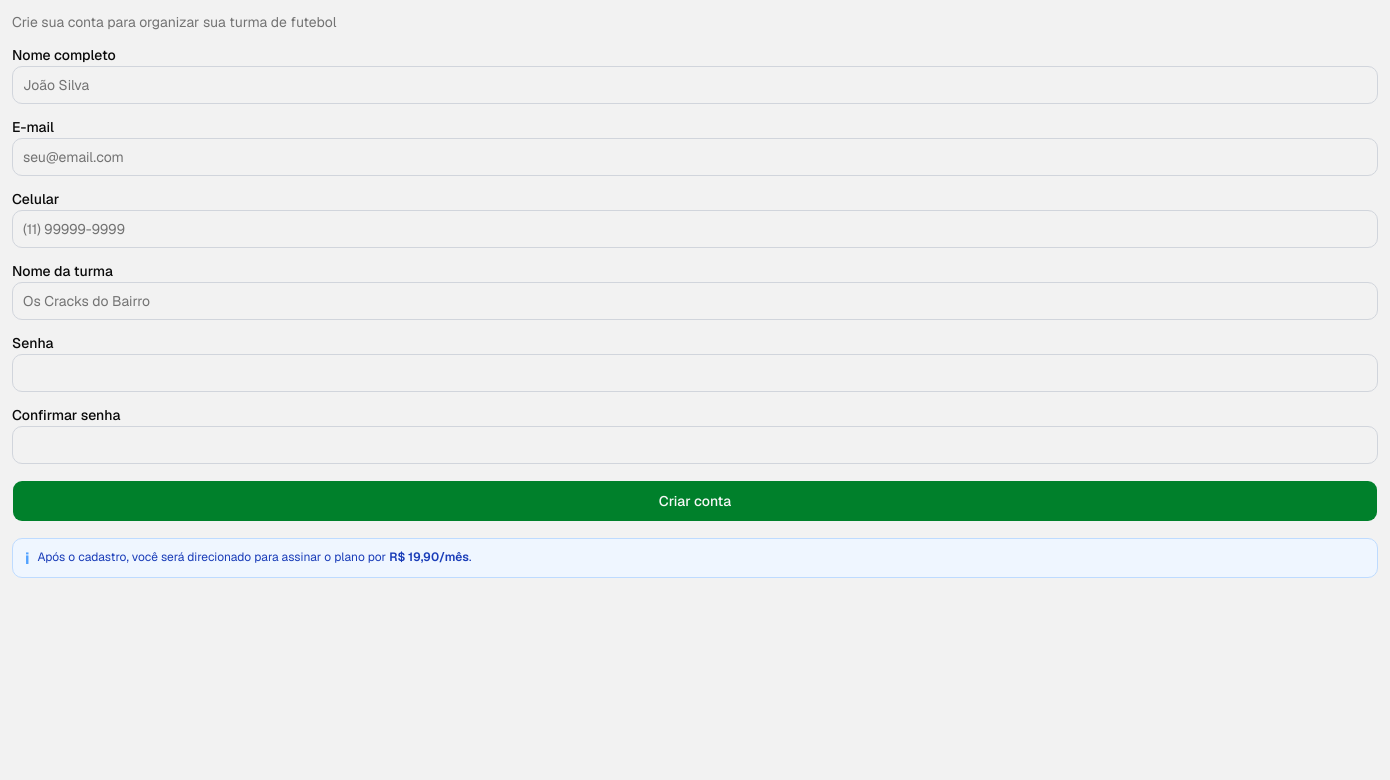
Test: CadastroForm › validation › shows error when team name is too short
Type "A" into the field labelled "Nome da turma" at x=695, y=301, box [12,282,1378,320]
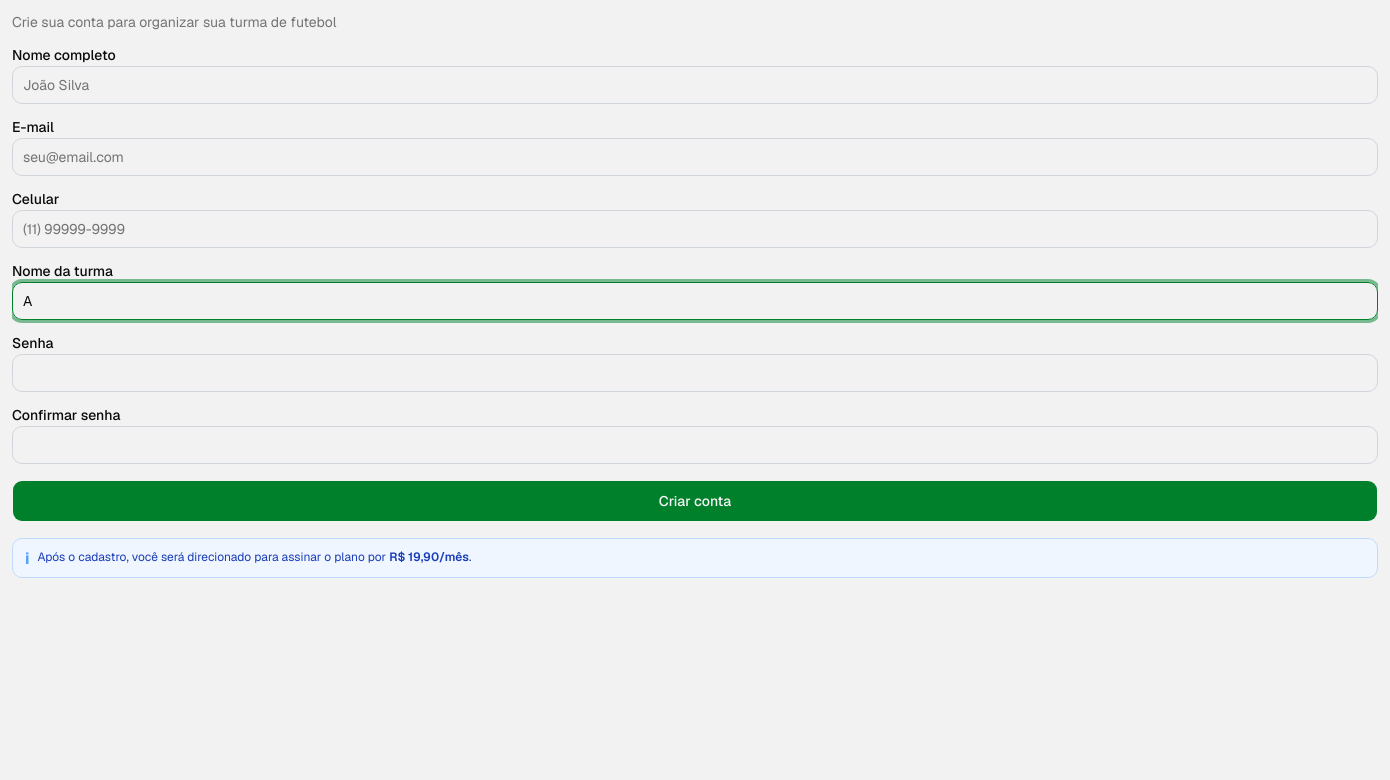
Click the button "Criar conta" at x=695, y=501, box [12,480,1378,522]
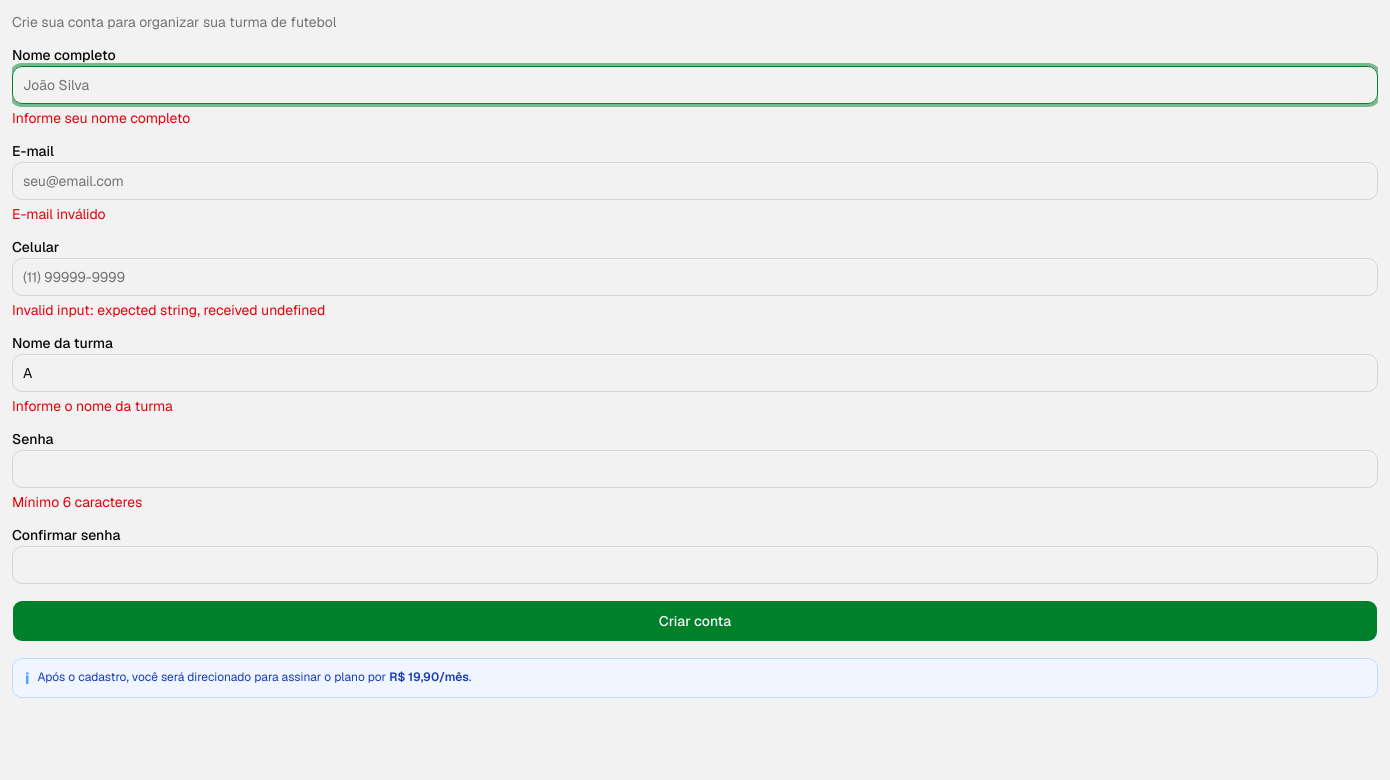
Now the text "Informe o nome da turma" is shown, box [12,397,173,415]
